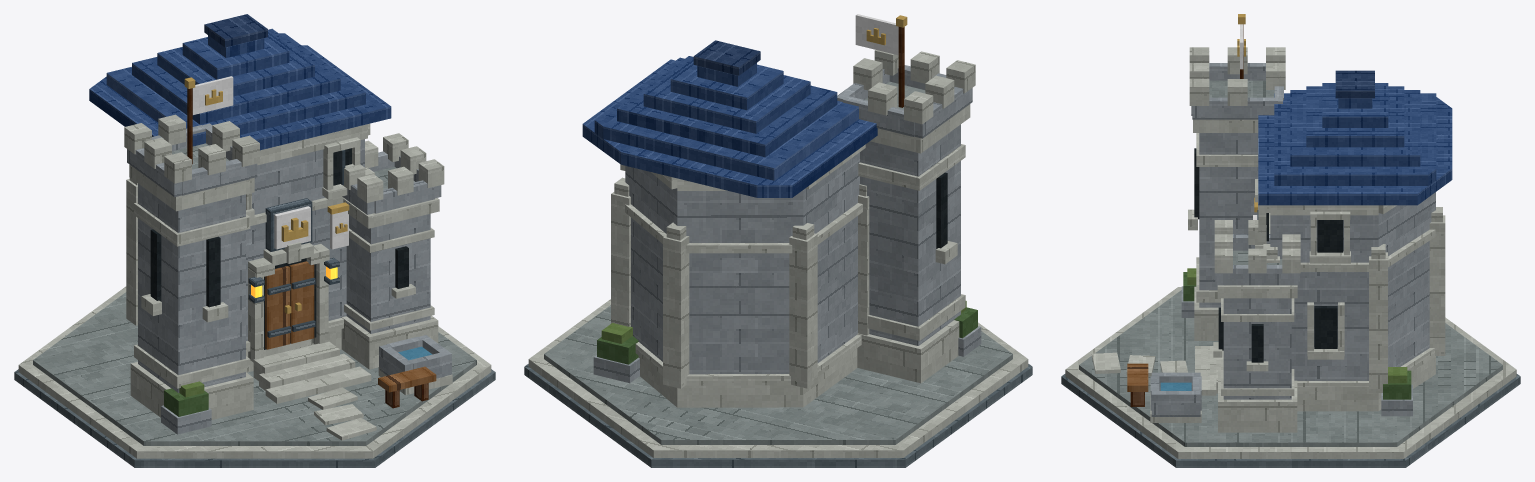
The model's file is city_level_2_hex_v1.glb.
3 views of the same model, side by side, from view 1: azimuth 30°, elevation 25°; view 2: azimuth 150°, elevation 25°; view 3: azimuth 270°, elevation 25° (orthographic). The views are drawn at different scales.
Visible parts, largest first — view 1: City_Level_2_Hex_V1_Turret, City_Level_2_Hex_V1_Foundation, City_Level_2_Hex_V1_Roofs, City_Level_2_Hex_V1_Architecture, City_Level_2_Hex_V1_Courtyard, City_Level_2_Hex_V1_Keep, City_Level_2_Hex_V1_Details, City_Level_2_Hex_V1_Faction; view 2: City_Level_2_Hex_V1_Keep, City_Level_2_Hex_V1_Foundation, City_Level_2_Hex_V1_Turret, City_Level_2_Hex_V1_Roofs, City_Level_2_Hex_V1_Architecture, City_Level_2_Hex_V1_Details, City_Level_2_Hex_V1_Courtyard, City_Level_2_Hex_V1_Faction; view 3: City_Level_2_Hex_V1_Turret, City_Level_2_Hex_V1_Foundation, City_Level_2_Hex_V1_Roofs, City_Level_2_Hex_V1_Keep, City_Level_2_Hex_V1_Architecture, City_Level_2_Hex_V1_Courtyard, City_Level_2_Hex_V1_Details.
Boxes of the visible parts, bbox=[...] form: City_Level_2_Hex_V1_Turret: bbox=[124, 114, 444, 419]; City_Level_2_Hex_V1_Foundation: bbox=[14, 286, 495, 467]; City_Level_2_Hex_V1_Roofs: bbox=[89, 14, 391, 150]; City_Level_2_Hex_V1_Architecture: bbox=[126, 137, 415, 362]; City_Level_2_Hex_V1_Courtyard: bbox=[161, 335, 452, 440]; City_Level_2_Hex_V1_Keep: bbox=[246, 123, 370, 372]; City_Level_2_Hex_V1_Details: bbox=[164, 77, 436, 416]; City_Level_2_Hex_V1_Faction: bbox=[192, 76, 348, 249]; City_Level_2_Hex_V1_Keep: bbox=[625, 144, 865, 407]; City_Level_2_Hex_V1_Foundation: bbox=[524, 299, 1032, 467]; City_Level_2_Hex_V1_Turret: bbox=[620, 50, 975, 383]; City_Level_2_Hex_V1_Roofs: bbox=[582, 40, 877, 197]; City_Level_2_Hex_V1_Architecture: bbox=[611, 172, 957, 388]; City_Level_2_Hex_V1_Details: bbox=[597, 15, 977, 364]; City_Level_2_Hex_V1_Courtyard: bbox=[593, 326, 981, 383]; City_Level_2_Hex_V1_Faction: bbox=[855, 14, 898, 55]; City_Level_2_Hex_V1_Turret: bbox=[1189, 47, 1300, 432]; City_Level_2_Hex_V1_Foundation: bbox=[1061, 287, 1520, 467]; City_Level_2_Hex_V1_Roofs: bbox=[1258, 70, 1452, 205]; City_Level_2_Hex_V1_Keep: bbox=[1264, 192, 1435, 411]; City_Level_2_Hex_V1_Architecture: bbox=[1188, 138, 1445, 392]; City_Level_2_Hex_V1_Courtyard: bbox=[1092, 286, 1412, 422]; City_Level_2_Hex_V1_Details: bbox=[1127, 14, 1411, 406].
Bounding box in the file's own units: 1.45 × 1.32 × 1.68.
1 material, 1 textured.
